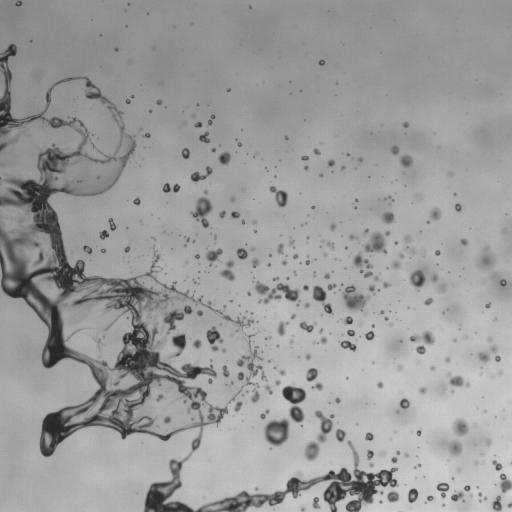droplet: (281, 383, 306, 423), (342, 285, 369, 314), (263, 418, 289, 447), (190, 196, 212, 227), (410, 330, 435, 354), (363, 231, 389, 253), (476, 245, 496, 271), (269, 186, 287, 207), (410, 270, 425, 290), (220, 260, 234, 281), (205, 248, 222, 265), (452, 418, 468, 436), (499, 473, 511, 493), (436, 482, 449, 498), (449, 440, 462, 455), (299, 321, 315, 332), (340, 340, 356, 351), (306, 368, 318, 381), (277, 321, 288, 335), (492, 496, 502, 511), (218, 152, 230, 164), (400, 155, 412, 167), (381, 212, 394, 223), (408, 488, 418, 502), (430, 207, 440, 220), (335, 429, 345, 442), (236, 248, 247, 259), (387, 491, 398, 502), (199, 132, 209, 142), (192, 338, 202, 348), (399, 398, 409, 408), (108, 218, 116, 230), (492, 460, 501, 470), (342, 316, 353, 324), (311, 382, 322, 390), (222, 365, 229, 377), (99, 230, 108, 239), (365, 331, 374, 340), (264, 385, 273, 394), (163, 415, 172, 424), (181, 148, 189, 158), (234, 401, 242, 411), (312, 497, 319, 508), (391, 261, 400, 269), (319, 335, 327, 344), (478, 492, 486, 501), (277, 243, 283, 254), (454, 203, 462, 211), (438, 284, 446, 292), (418, 386, 426, 394), (365, 432, 373, 440), (231, 211, 240, 218), (83, 246, 92, 253), (252, 258, 259, 267), (424, 298, 433, 305), (367, 450, 373, 460), (391, 146, 398, 154), (133, 197, 140, 205), (404, 235, 411, 243), (327, 241, 334, 249), (327, 284, 336, 290), (431, 274, 438, 281), (196, 309, 203, 316), (347, 329, 354, 336), (369, 285, 375, 293), (426, 495, 434, 501), (313, 148, 320, 154), (461, 238, 467, 245), (500, 279, 506, 286), (397, 364, 403, 371), (194, 122, 202, 127), (382, 282, 390, 287), (156, 99, 162, 105), (328, 160, 334, 166), (219, 211, 225, 217), (373, 275, 379, 281), (377, 382, 383, 388), (391, 456, 397, 462), (330, 223, 335, 230), (349, 234, 356, 239), (278, 370, 285, 375), (16, 0, 21, 6), (318, 60, 324, 65), (363, 229, 368, 235), (305, 259, 310, 265), (491, 272, 497, 277), (304, 302, 309, 308), (95, 338, 100, 344), (495, 355, 500, 361), (486, 439, 491, 445), (143, 133, 150, 137), (301, 156, 308, 160), (289, 239, 293, 246), (403, 122, 408, 127), (230, 196, 235, 201), (124, 247, 129, 252), (435, 250, 440, 255), (324, 273, 329, 278), (303, 285, 308, 290), (485, 303, 490, 308), (306, 354, 311, 359), (445, 357, 450, 362), (275, 380, 280, 385), (380, 451, 385, 456), (300, 506, 305, 511), (507, 501, 511, 507), (125, 99, 130, 103), (358, 157, 362, 162), (398, 253, 403, 257), (293, 254, 298, 258), (282, 260, 286, 265), (291, 314, 295, 319), (430, 366, 435, 370), (417, 430, 421, 435), (369, 462, 373, 467), (237, 142, 241, 146), (304, 165, 308, 169), (253, 220, 257, 224), (101, 249, 105, 253), (195, 254, 199, 258), (380, 310, 384, 314), (289, 339, 293, 343), (229, 381, 233, 385), (335, 398, 339, 402), (211, 148, 215, 151), (204, 190, 207, 194), (186, 237, 189, 241), (319, 329, 322, 333), (404, 453, 408, 456), (341, 166, 344, 169), (311, 206, 314, 209), (324, 253, 327, 256), (313, 273, 316, 276), (384, 317, 387, 320), (488, 338, 491, 341), (498, 371, 501, 374), (396, 451, 399, 454), (294, 271, 296, 275), (230, 332, 232, 336), (0, 162, 2, 165), (449, 172, 451, 175), (320, 174, 323, 176), (355, 199, 358, 201), (242, 220, 244, 223), (395, 241, 397, 244), (247, 292, 250, 294), (267, 336, 270, 338), (453, 339, 456, 341), (210, 359, 212, 362), (475, 461, 477, 464), (469, 494, 472, 496), (379, 500, 381, 503), (227, 89, 229, 91), (149, 110, 151, 112), (285, 136, 287, 138), (152, 237, 154, 239), (251, 248, 253, 250), (269, 254, 271, 256), (159, 267, 161, 269), (193, 280, 195, 282), (219, 323, 221, 325), (358, 323, 360, 325), (390, 323, 392, 325), (314, 341, 316, 343), (473, 423, 475, 425)
ligament: (0, 44, 396, 511), (304, 410, 332, 460), (255, 281, 300, 305), (312, 285, 332, 314), (206, 326, 226, 353), (353, 252, 372, 277), (190, 166, 212, 182), (446, 372, 469, 387), (478, 345, 497, 362), (451, 485, 470, 501), (162, 183, 179, 192), (260, 409, 269, 419), (404, 246, 415, 254), (208, 115, 214, 125), (414, 464, 421, 468), (272, 277, 279, 280), (91, 143, 95, 148), (388, 196, 393, 200), (510, 461, 511, 465)
